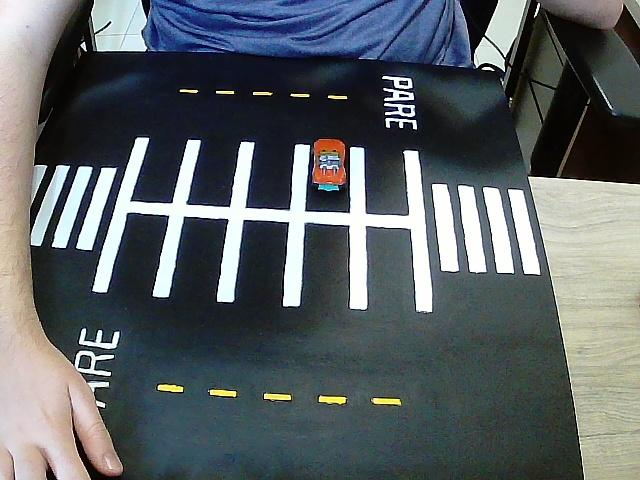Carro: (313, 139, 349, 192)
